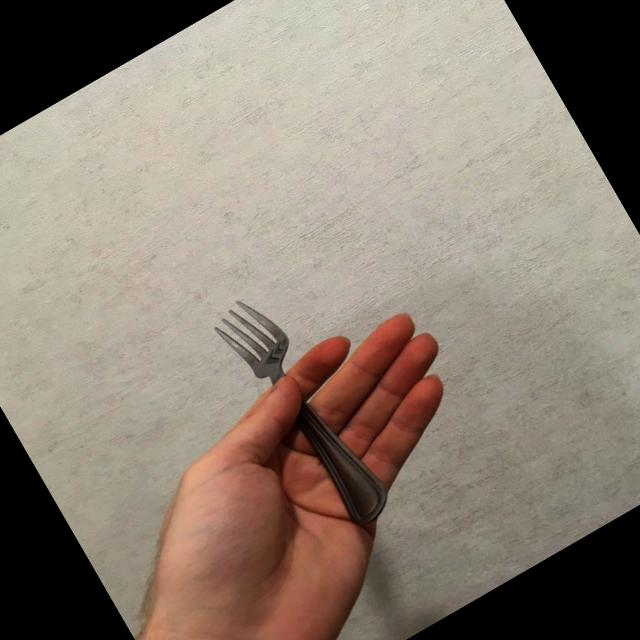fork: (202, 282, 396, 544)
